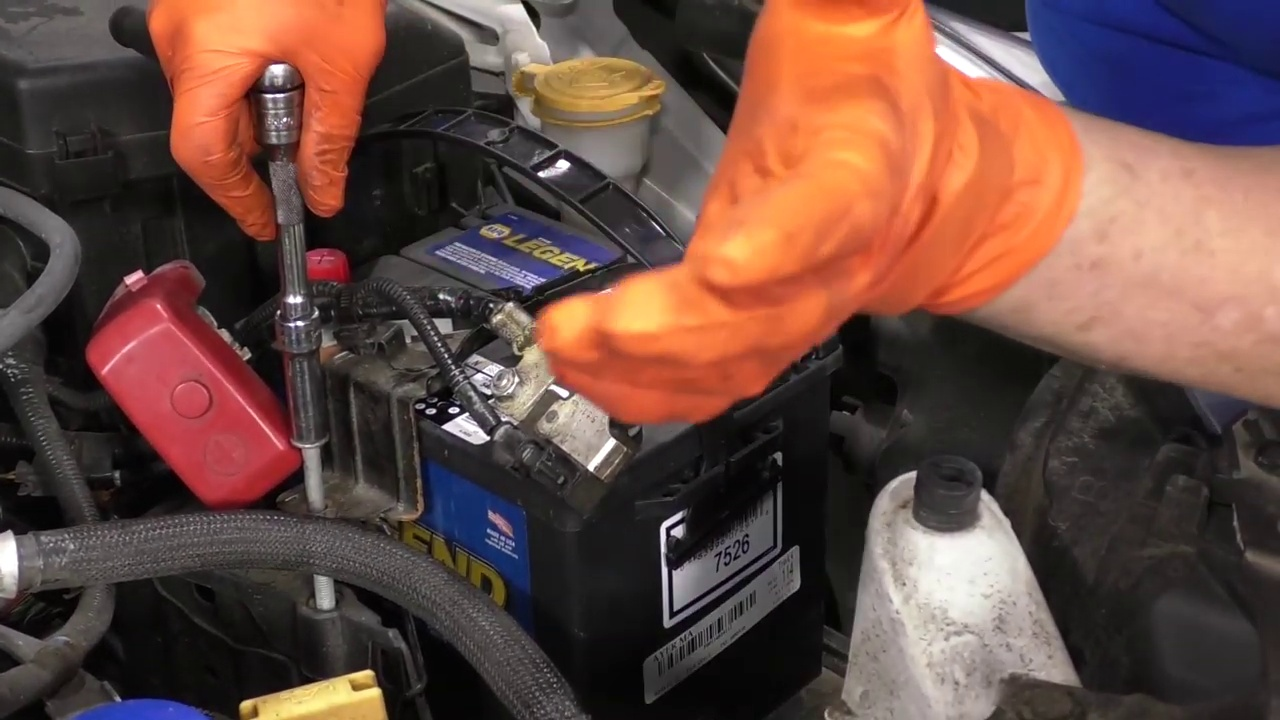battery: (210, 203, 731, 481)
